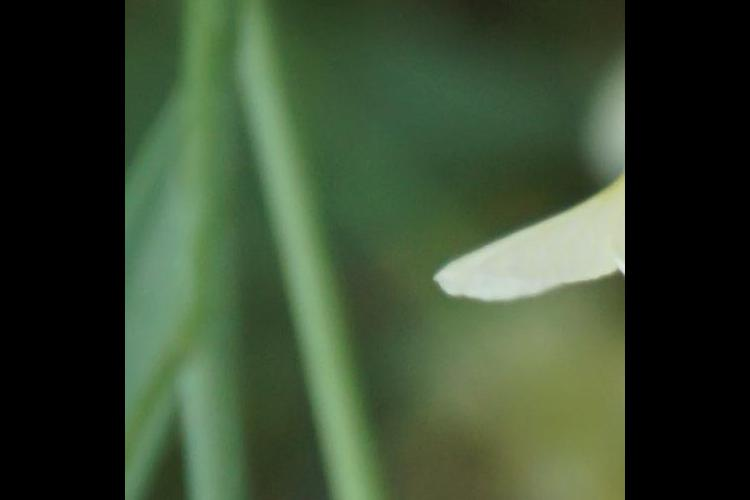white: (428, 130, 625, 320)
